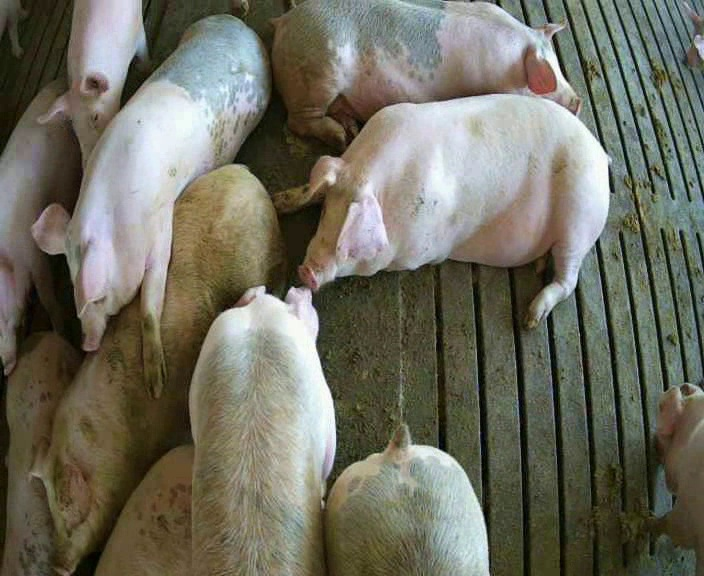pig: (30, 165, 283, 573), (32, 15, 269, 396), (271, 94, 611, 326), (273, 2, 579, 149), (189, 288, 335, 574), (325, 424, 488, 574), (0, 81, 80, 373), (2, 332, 79, 574), (37, 2, 146, 166), (95, 445, 193, 574), (650, 383, 703, 574)
